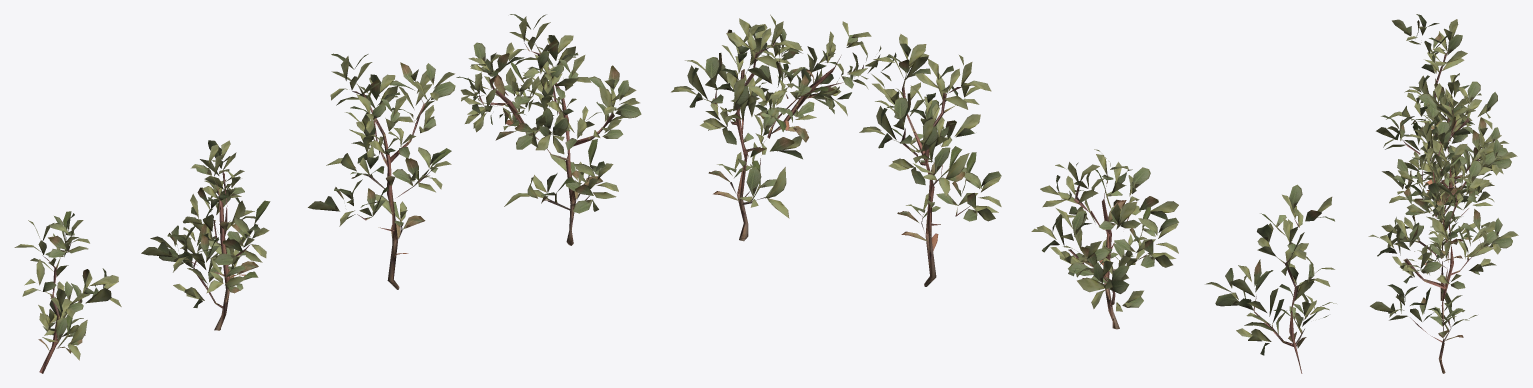
The model's file is shrub_04.glb.
The picture shows the model from 3 angles, left to right: view 1: azimuth 30°, elevation 25°; view 2: azimuth 150°, elevation 25°; view 3: azimuth 270°, elevation 25°; orthographic projection. The views are drawn at different scales.
Visible parts, largest first — view 1: shrub_04; view 2: shrub_04; view 3: shrub_04.
Boxes of the visible parts, x1,y1,x2,y2 form: shrub_04: (14, 14, 641, 373); shrub_04: (671, 14, 1336, 373); shrub_04: (1368, 14, 1518, 373).
Bounding box in the file's own units: 0.5837 × 0.2192 × 0.1461.
1 material, 1 textured.
